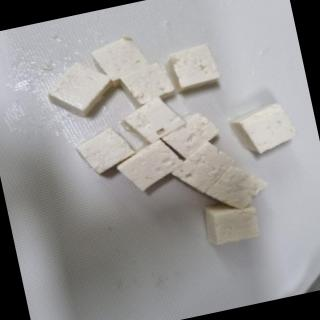Tahu: (49, 38, 268, 246), (229, 103, 291, 155)
